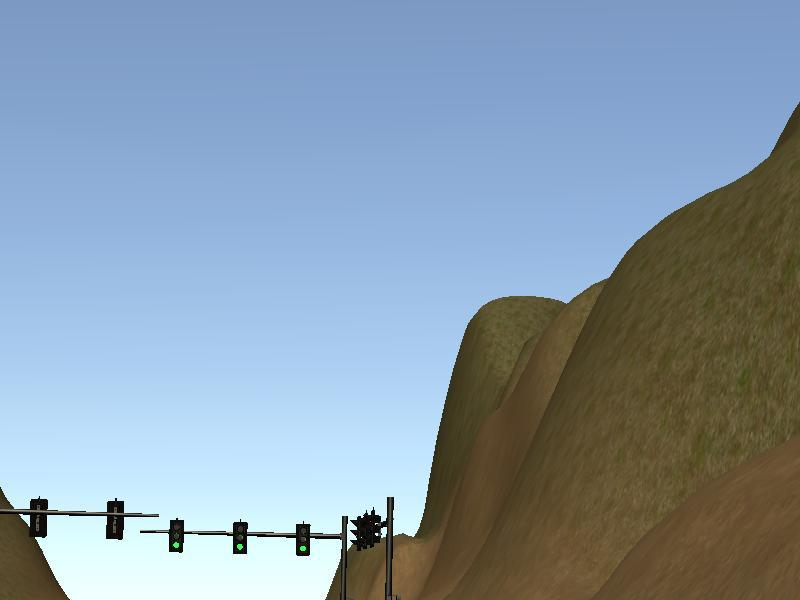Green: (169, 519, 185, 552), (295, 523, 311, 556), (233, 521, 249, 554)
